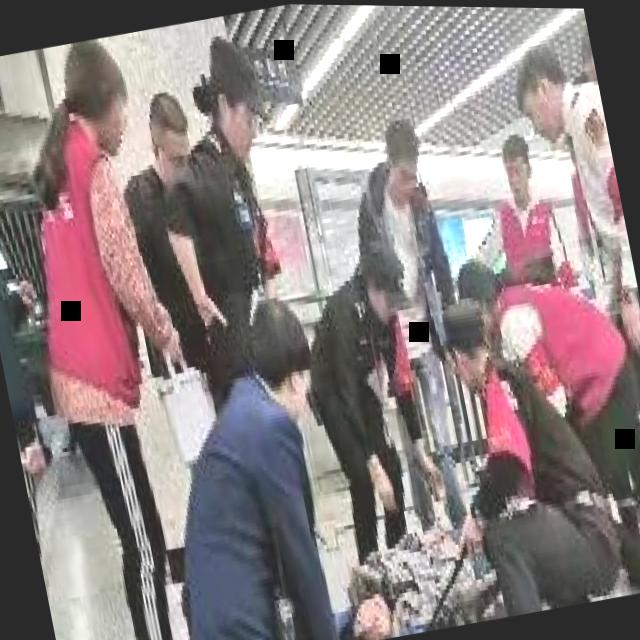Fall-Detected: (302, 476, 521, 640)
